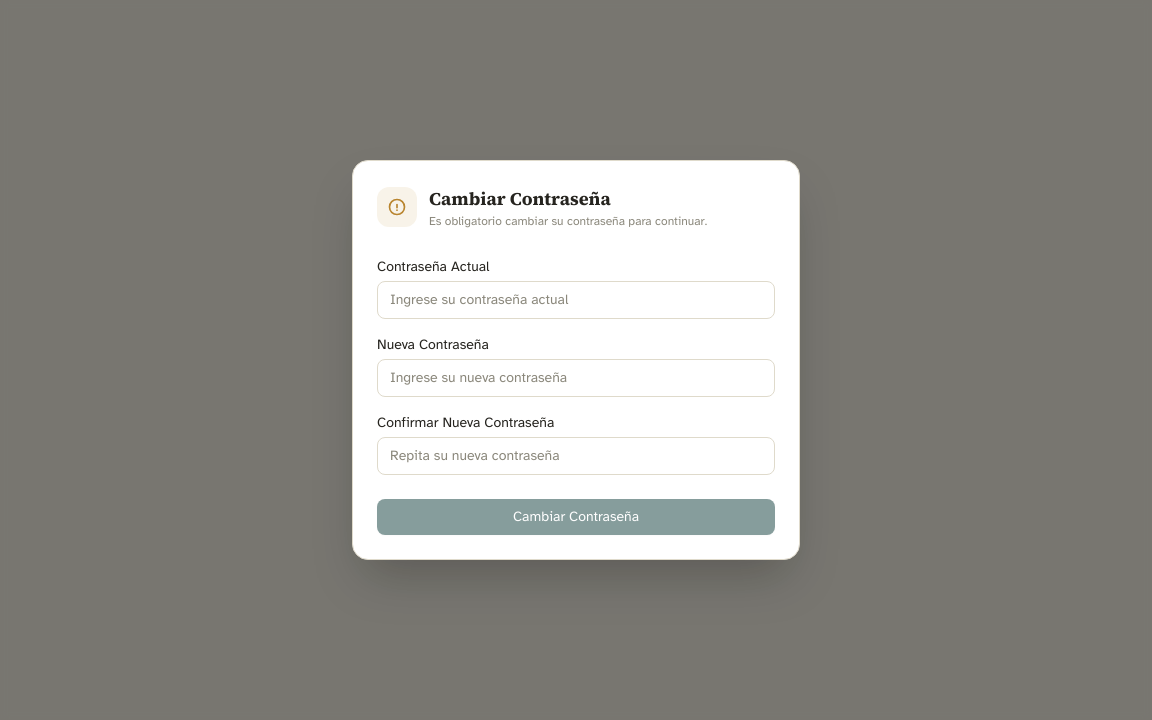
formulario de cambio › muestra el detalle del error devuelto por el API
Type "anterior" into the password field labelled "Contraseña Actual".
click(576, 300); type("anterior")  # box [377,281,775,319]
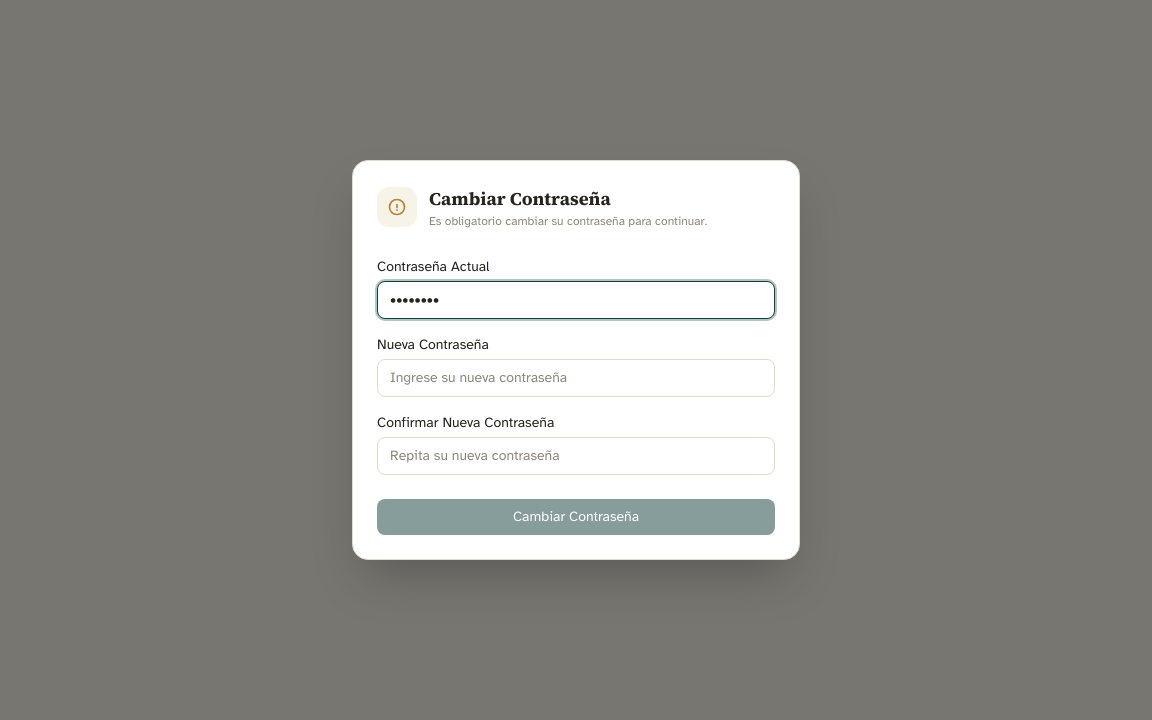
Type "NuevaClave123*" into the password field labelled "Nueva Contraseña".
click(576, 378); type("NuevaClave123*")  # box [377,359,775,397]
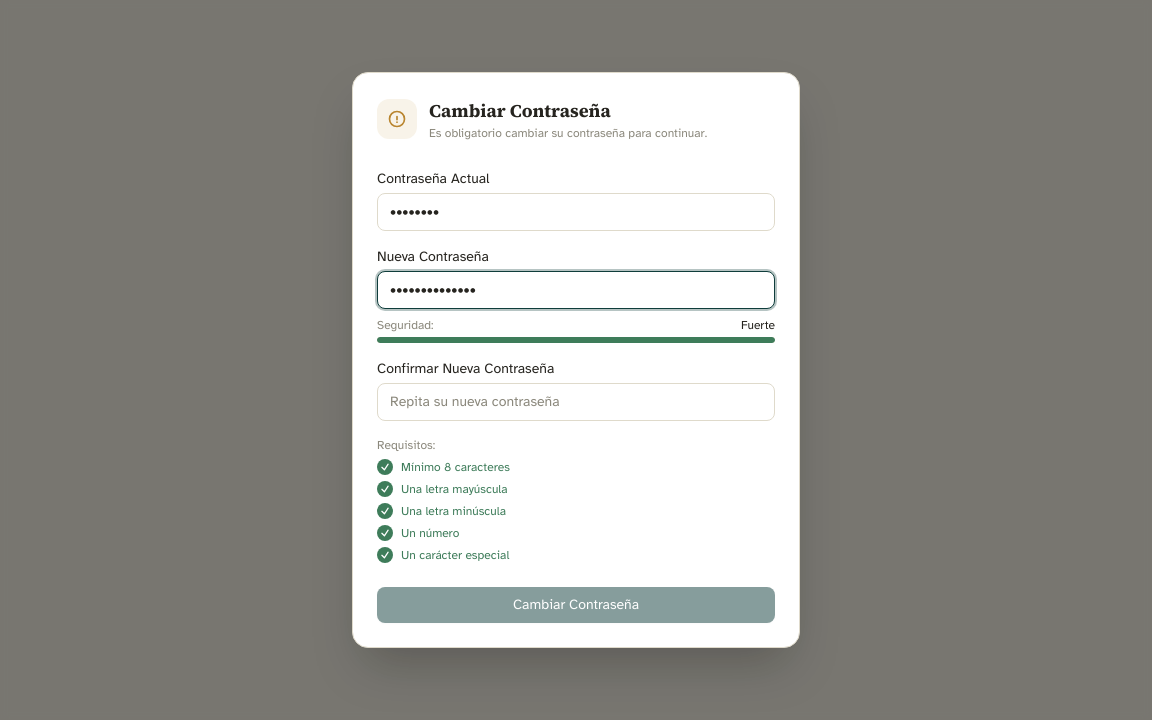
Type "NuevaClave123*" into the password field labelled "Confirmar Nueva Contraseña".
click(576, 402); type("NuevaClave123*")  # box [377,383,775,421]
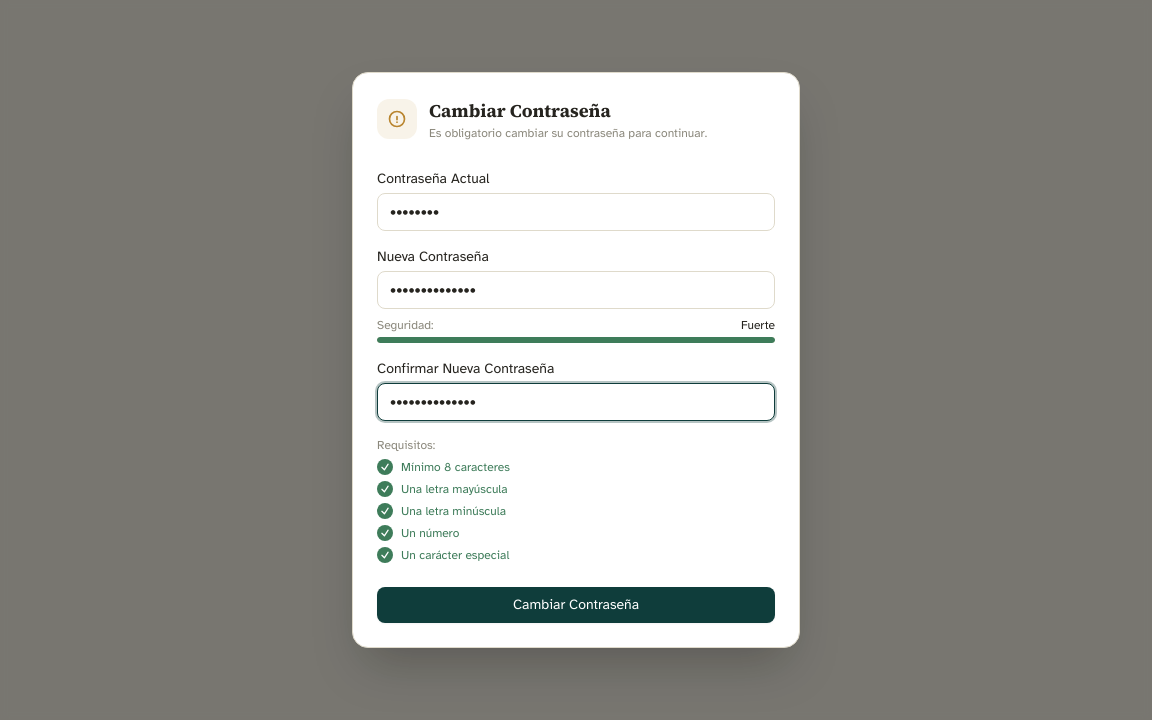
Click the button "Cambiar Contraseña".
click(576, 605)  # box [377,587,775,623]
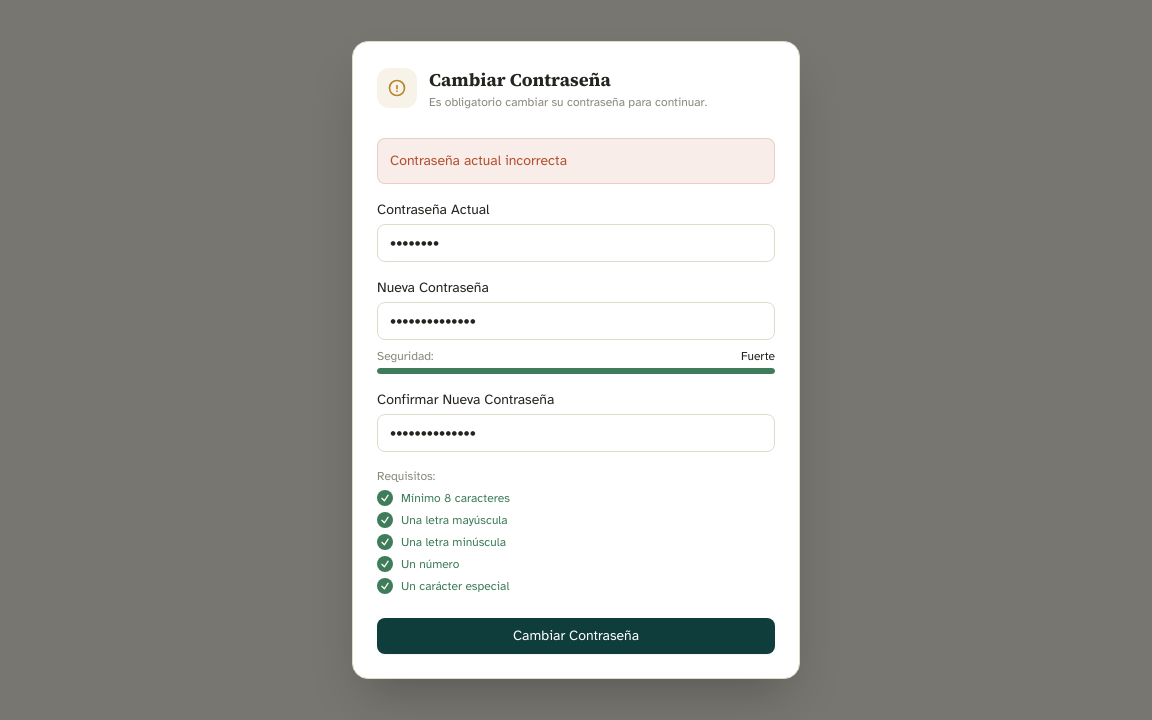
Check: the heading "Cambiar Contraseña" is shown, box [429,67,611,92]
Check: the text "Contraseña actual incorrecta" is shown, box [377,138,775,184]
